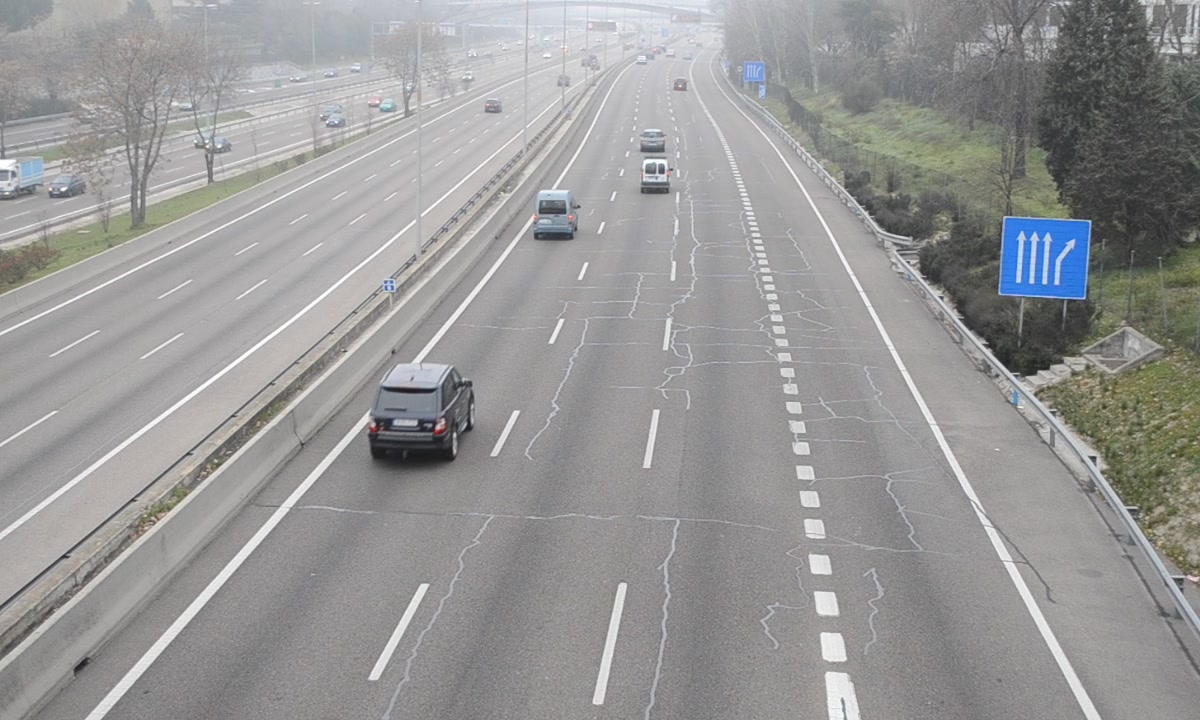car: (369, 362, 474, 454)
van: (534, 188, 576, 236), (639, 156, 669, 192)
